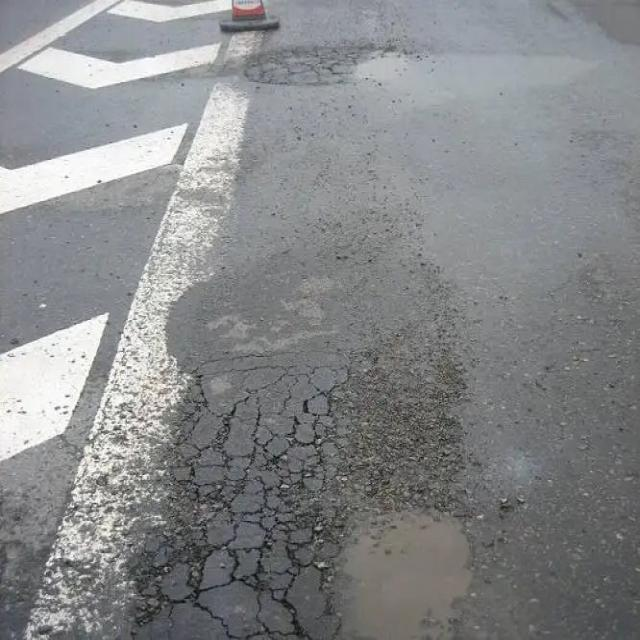Pothole: (287, 303, 515, 639), (239, 50, 416, 82)
